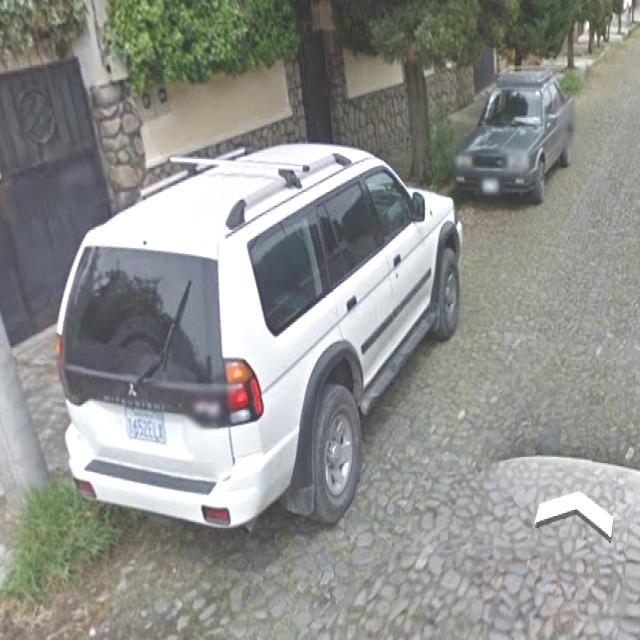car: (57, 173, 470, 553), (452, 69, 576, 205)
